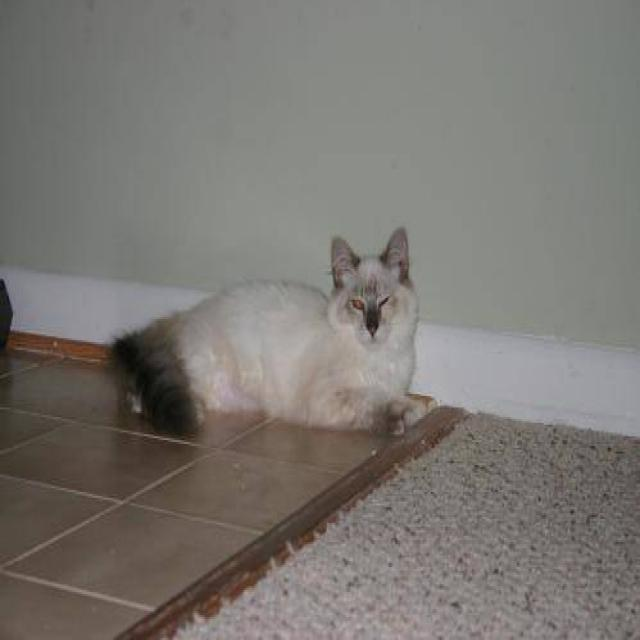cat: (104, 225, 439, 438)
